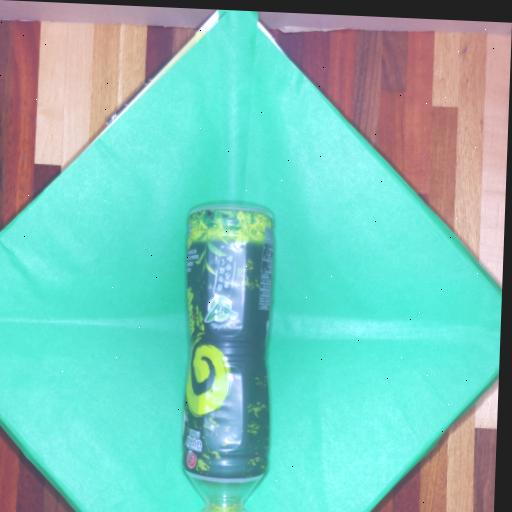bottle: (157, 190, 284, 512)
